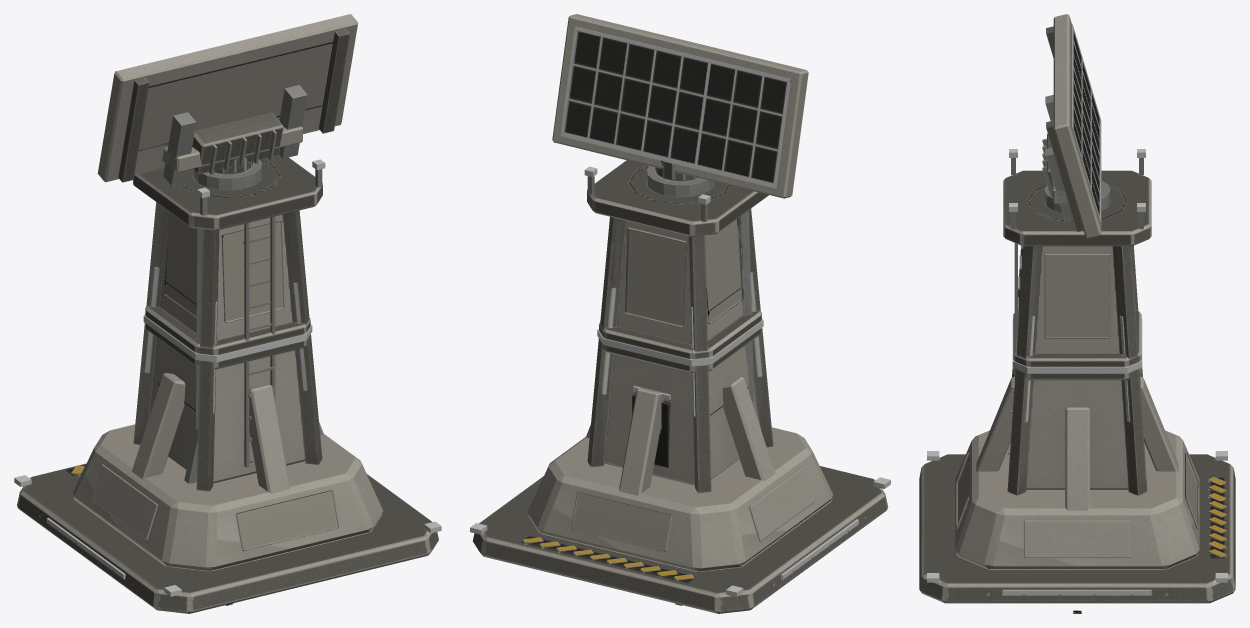
Rendered from ord_watchtower.fbx.
3 views of the same model, side by side, from view 1: azimuth 30°, elevation 25°; view 2: azimuth 150°, elevation 25°; view 3: azimuth 270°, elevation 25° (orthographic). The views are drawn at different scales.
Parts seen in each view (by area): view 1: base_bar, radar_bar, base_glow_running_bar; view 2: base_bar, radar_bar, radar_glow_running_bar, base_glow_running_bar; view 3: base_bar, radar_bar, base_glow_running_bar, radar_glow_running_bar.
Boxes of the visible parts, left/top/right/bottom form: base_bar: left=17, top=154, right=438, bottom=613; radar_bar: left=97, top=14, right=357, bottom=185; base_glow_running_bar: left=14, top=159, right=441, bottom=596; base_bar: left=473, top=160, right=888, bottom=613; radar_bar: left=552, top=14, right=808, bottom=198; radar_glow_running_bar: left=560, top=26, right=790, bottom=188; base_glow_running_bar: left=470, top=166, right=890, bottom=597; base_bar: left=919, top=158, right=1235, bottom=603; radar_bar: left=1042, top=14, right=1101, bottom=238; base_glow_running_bar: left=927, top=149, right=1227, bottom=595; radar_glow_running_bar: left=1072, top=24, right=1101, bottom=223.
Bounding box in the file's own units: 769 × 1454 × 768.
2 materials, 2 textured.
